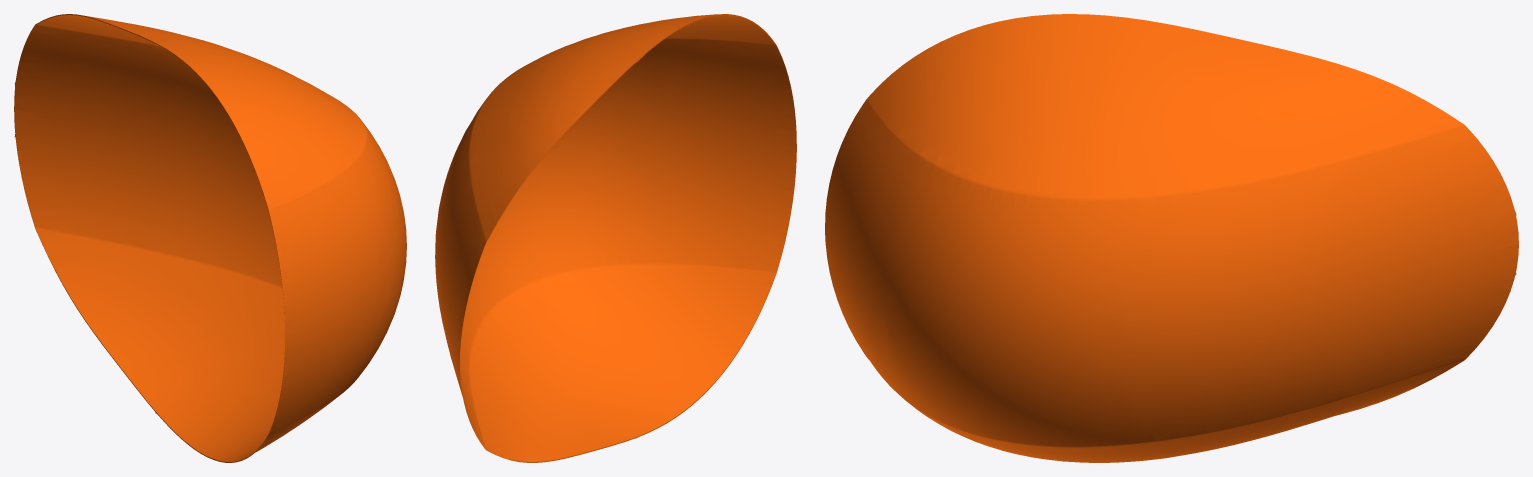
The model's file is link_2_orange.obj.
The picture shows the model from 3 angles, left to right: view 1: azimuth 30°, elevation 25°; view 2: azimuth 150°, elevation 25°; view 3: azimuth 270°, elevation 25°; orthographic projection. The views are drawn at different scales.
Visible parts, largest first — view 1: link_2_orange; view 2: link_2_orange; view 3: link_2_orange.
Boxes of the visible parts, <box> form: link_2_orange: <box>14,14,406,462</box>; link_2_orange: <box>435,14,796,462</box>; link_2_orange: <box>825,14,1518,462</box>.
Size of the model in its own units: 0.0902 by 0.16 by 0.2297.
